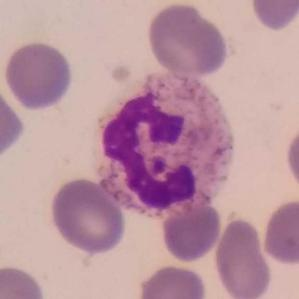Neutrophil: (89, 68, 245, 220)
RBC: (144, 0, 230, 79), (47, 175, 128, 256), (1, 38, 76, 112), (211, 214, 275, 299), (158, 196, 225, 264), (260, 196, 299, 267), (135, 262, 209, 299), (0, 85, 26, 159), (0, 262, 47, 299), (248, 0, 299, 33), (282, 118, 299, 197)
